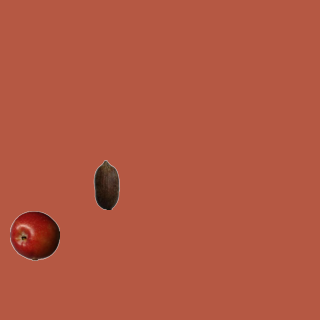Apple Braeburn: (9, 210, 59, 260)
Nut Pecan: (81, 159, 131, 209)
